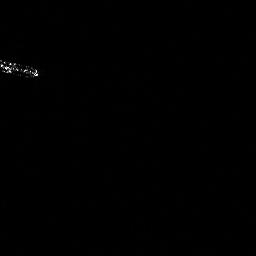ship: (1, 58, 38, 79)
